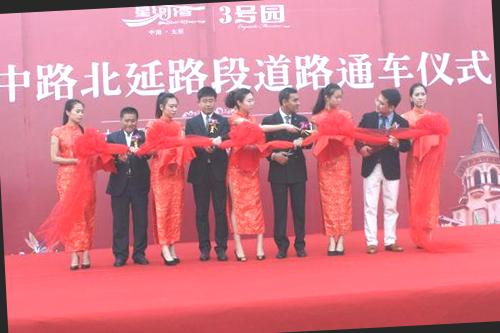no_helmet: (223, 84, 256, 118), (62, 94, 92, 126), (116, 104, 145, 134), (193, 84, 221, 114), (156, 90, 184, 120), (277, 84, 304, 115), (318, 83, 347, 111), (375, 86, 402, 115), (409, 80, 431, 108)
